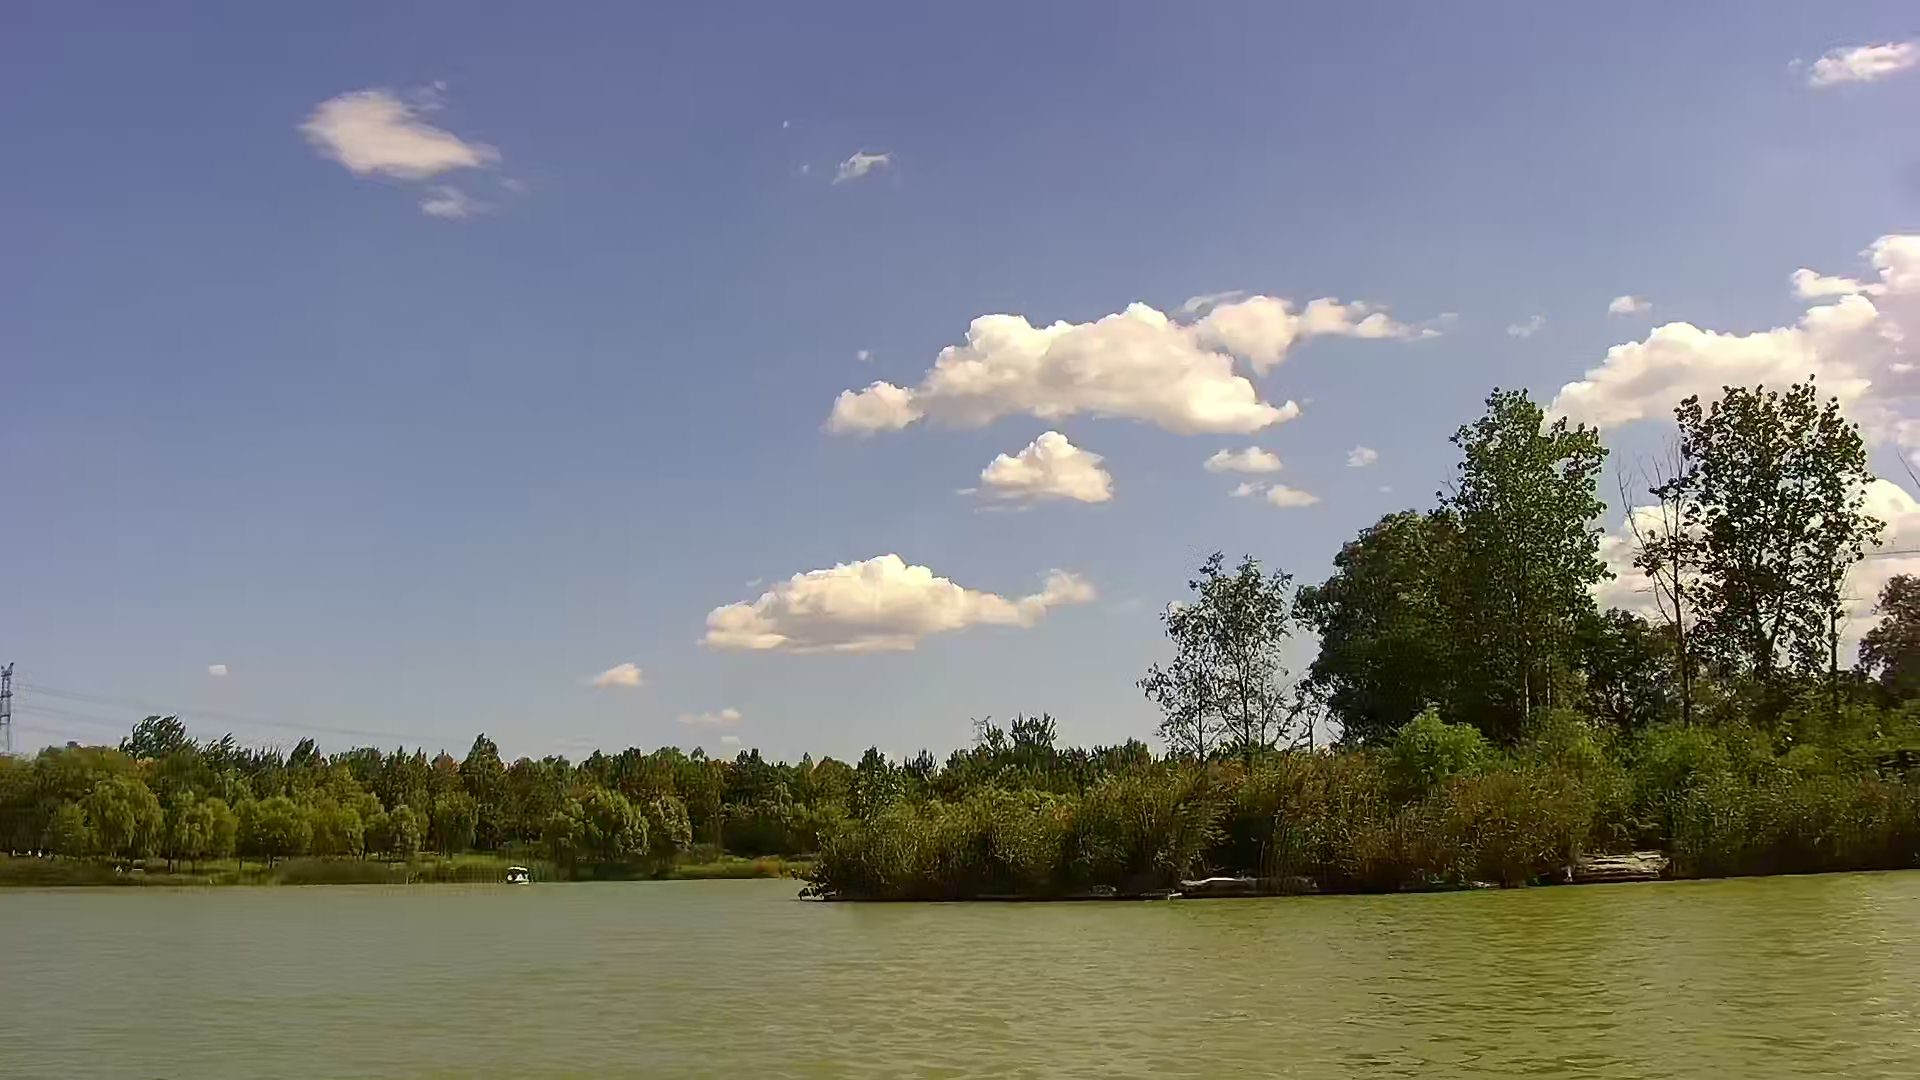boat: (505, 865, 533, 887)
